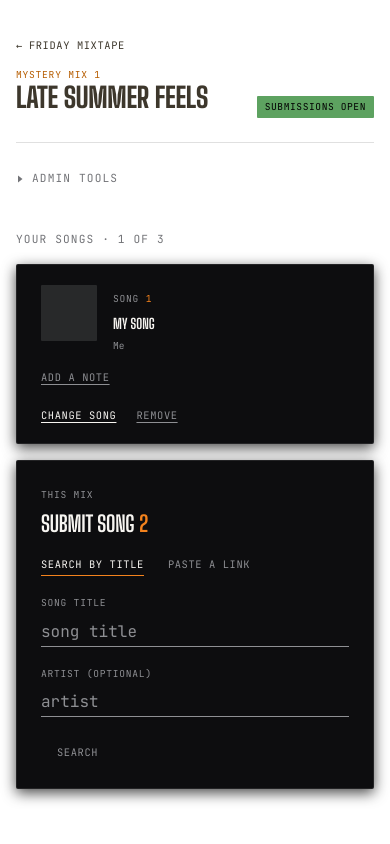
MixDetailRoute › open_submission, partial submission: leave-warning falls back to the plain count with no deadline — MYS-250
The width and height of the screenshot is (390, 844).
Expected: the heading "submit song 2" is shown, [41,513,148,535]
Click the button "← Friday Mixtape" at [70, 45], box [16,38,125,53]
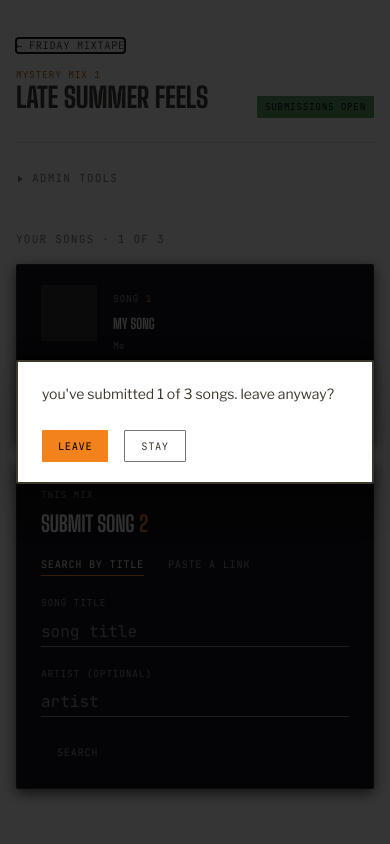
Now the text "you've submitted 1 of 3 songs. leave anyway?" is shown, box [42,382,348,406]
